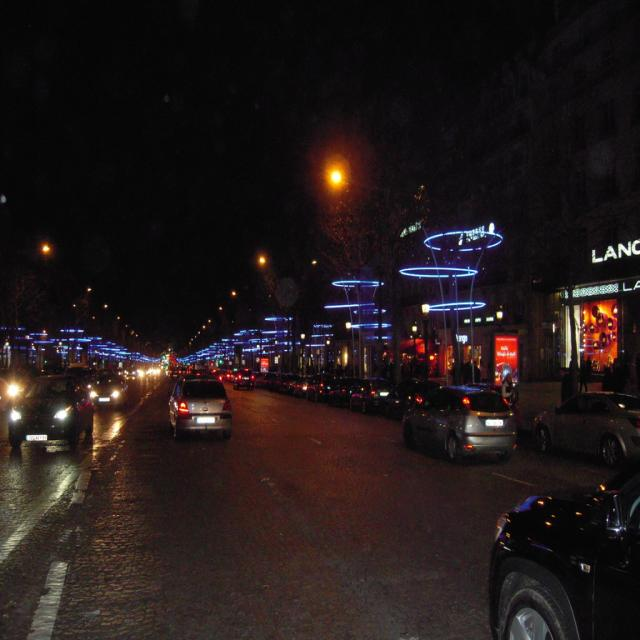car: (6, 374, 92, 455), (168, 371, 231, 440)
